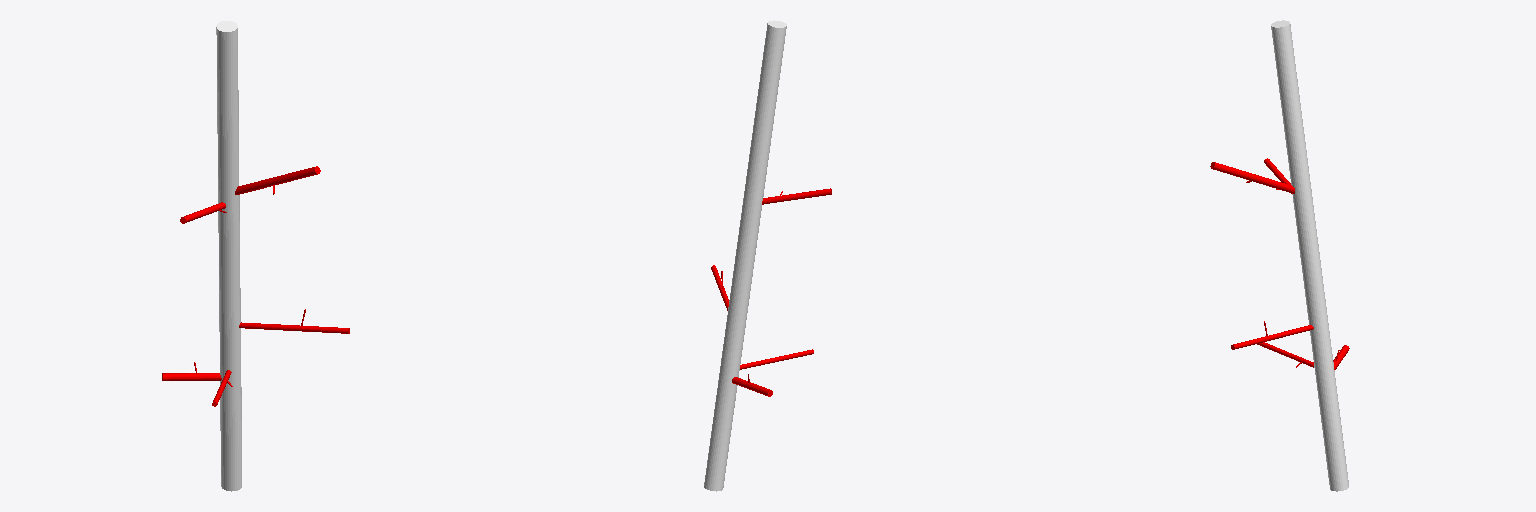
URDF robot description (tree_50.urdf):
<?xml version='1.0' encoding='UTF-8'?>
<robot name="tree_50.urdf">
  <link name="branch_0">
    <inertial>
      <origin xyz="0.0 0.0 0.0" rpy="0.0 -0.0 0.0"/>
      <mass value="0.1"/>
      <inertia ixx="0.001" ixy="0.0" ixz="0.0" iyy="0.001" iyz="0.0" izz="0.001"/>
    </inertial>
    <visual name="branch_0_visual">
      <geometry>
        <cylinder radius="0.19498294490499557" length="9.954055942555794"/>
      </geometry>
      <material name="branch_material"/>
      <origin xyz="-0.38883833730725437 -0.589319804172736 4.926694058162382" rpy="-1.3877787807814457e-17 0.14234001123208226 -2.1540360717377256"/>
    </visual>
    <collision name="branch_0_collision">
      <geometry>
        <cylinder radius="0.19498294490499557" length="9.954055942555794"/>
      </geometry>
      <origin xyz="-0.38883833730725437 -0.589319804172736 4.926694058162382" rpy="-1.3877787807814457e-17 0.14234001123208226 -2.1540360717377256"/>
    </collision>
  </link>
  <link name="branch_1">
    <inertial>
      <origin xyz="0.0 0.0 0.0" rpy="0.0 -0.0 0.0"/>
      <mass value="0.1"/>
      <inertia ixx="0.001" ixy="0.0" ixz="0.0" iyy="0.001" iyz="0.0" izz="0.001"/>
    </inertial>
    <visual name="branch_1_visual">
      <geometry>
        <cylinder radius="0.07507088717942965" length="2.2033952500744283"/>
      </geometry>
      <material name="semantic_material"/>
      <origin xyz="0.0 0.0 0.0" rpy="0.0 -0.0 0.0"/>
    </visual>
    <collision name="branch_1_collision">
      <geometry>
        <cylinder radius="0.07507088717942965" length="2.2033952500744283"/>
      </geometry>
      <origin xyz="0.0 0.0 0.0" rpy="0.0 -0.0 0.0"/>
    </collision>
  </link>
  <link name="branch_2">
    <inertial>
      <origin xyz="0.0 0.0 0.0" rpy="0.0 -0.0 0.0"/>
      <mass value="0.1"/>
      <inertia ixx="0.001" ixy="0.0" ixz="0.0" iyy="0.001" iyz="0.0" izz="0.001"/>
    </inertial>
    <visual name="branch_2_visual">
      <geometry>
        <cylinder radius="0.018907287699865764" length="0.27812069118553856"/>
      </geometry>
      <material name="semantic_material"/>
      <origin xyz="0.0 0.0 0.0" rpy="0.0 -0.0 0.0"/>
    </visual>
    <collision name="branch_2_collision">
      <geometry>
        <cylinder radius="0.018907287699865764" length="0.27812069118553856"/>
      </geometry>
      <origin xyz="0.0 0.0 0.0" rpy="0.0 -0.0 0.0"/>
    </collision>
  </link>
  <link name="branch_3">
    <inertial>
      <origin xyz="0.0 0.0 0.0" rpy="0.0 -0.0 0.0"/>
      <mass value="0.1"/>
      <inertia ixx="0.001" ixy="0.0" ixz="0.0" iyy="0.001" iyz="0.0" izz="0.001"/>
    </inertial>
    <visual name="branch_3_visual">
      <geometry>
        <cylinder radius="0.0718519936489977" length="1.2629489827869675"/>
      </geometry>
      <material name="semantic_material"/>
      <origin xyz="0.0 0.0 0.0" rpy="0.0 -0.0 0.0"/>
    </visual>
    <collision name="branch_3_collision">
      <geometry>
        <cylinder radius="0.0718519936489977" length="1.2629489827869675"/>
      </geometry>
      <origin xyz="0.0 0.0 0.0" rpy="0.0 -0.0 0.0"/>
    </collision>
  </link>
  <link name="branch_4">
    <inertial>
      <origin xyz="0.0 0.0 0.0" rpy="0.0 -0.0 0.0"/>
      <mass value="0.1"/>
      <inertia ixx="0.001" ixy="0.0" ixz="0.0" iyy="0.001" iyz="0.0" izz="0.001"/>
    </inertial>
    <visual name="branch_4_visual">
      <geometry>
        <cylinder radius="0.014930150415725667" length="0.2932566239811885"/>
      </geometry>
      <material name="semantic_material"/>
      <origin xyz="0.0 0.0 0.0" rpy="0.0 -0.0 0.0"/>
    </visual>
    <collision name="branch_4_collision">
      <geometry>
        <cylinder radius="0.014930150415725667" length="0.2932566239811885"/>
      </geometry>
      <origin xyz="0.0 0.0 0.0" rpy="0.0 -0.0 0.0"/>
    </collision>
  </link>
  <link name="branch_5">
    <inertial>
      <origin xyz="0.0 0.0 0.0" rpy="0.0 -0.0 0.0"/>
      <mass value="0.1"/>
      <inertia ixx="0.001" ixy="0.0" ixz="0.0" iyy="0.001" iyz="0.0" izz="0.001"/>
    </inertial>
    <visual name="branch_5_visual">
      <geometry>
        <cylinder radius="0.04906009779174152" length="1.7750023376440998"/>
      </geometry>
      <material name="semantic_material"/>
      <origin xyz="0.0 0.0 0.0" rpy="0.0 -0.0 0.0"/>
    </visual>
    <collision name="branch_5_collision">
      <geometry>
        <cylinder radius="0.04906009779174152" length="1.7750023376440998"/>
      </geometry>
      <origin xyz="0.0 0.0 0.0" rpy="0.0 -0.0 0.0"/>
    </collision>
  </link>
  <link name="branch_6">
    <inertial>
      <origin xyz="0.0 0.0 0.0" rpy="0.0 -0.0 0.0"/>
      <mass value="0.1"/>
      <inertia ixx="0.001" ixy="0.0" ixz="0.0" iyy="0.001" iyz="0.0" izz="0.001"/>
    </inertial>
    <visual name="branch_6_visual">
      <geometry>
        <cylinder radius="0.01619060831474803" length="0.19031940819400733"/>
      </geometry>
      <material name="semantic_material"/>
      <origin xyz="0.0 0.0 0.0" rpy="0.0 -0.0 0.0"/>
    </visual>
    <collision name="branch_6_collision">
      <geometry>
        <cylinder radius="0.01619060831474803" length="0.19031940819400733"/>
      </geometry>
      <origin xyz="0.0 0.0 0.0" rpy="0.0 -0.0 0.0"/>
    </collision>
  </link>
  <link name="branch_7">
    <inertial>
      <origin xyz="0.0 0.0 0.0" rpy="0.0 -0.0 0.0"/>
      <mass value="0.1"/>
      <inertia ixx="0.001" ixy="0.0" ixz="0.0" iyy="0.001" iyz="0.0" izz="0.001"/>
    </inertial>
    <visual name="branch_7_visual">
      <geometry>
        <cylinder radius="0.05317756755384321" length="2.2939971957388257"/>
      </geometry>
      <material name="semantic_material"/>
      <origin xyz="0.0 0.0 0.0" rpy="0.0 -0.0 0.0"/>
    </visual>
    <collision name="branch_7_collision">
      <geometry>
        <cylinder radius="0.05317756755384321" length="2.2939971957388257"/>
      </geometry>
      <origin xyz="0.0 0.0 0.0" rpy="0.0 -0.0 0.0"/>
    </collision>
  </link>
  <link name="branch_8">
    <inertial>
      <origin xyz="0.0 0.0 0.0" rpy="0.0 -0.0 0.0"/>
      <mass value="0.1"/>
      <inertia ixx="0.001" ixy="0.0" ixz="0.0" iyy="0.001" iyz="0.0" izz="0.001"/>
    </inertial>
    <visual name="branch_8_visual">
      <geometry>
        <cylinder radius="0.01460774744188303" length="0.4046274845384857"/>
      </geometry>
      <material name="semantic_material"/>
      <origin xyz="0.0 0.0 0.0" rpy="0.0 -0.0 0.0"/>
    </visual>
    <collision name="branch_8_collision">
      <geometry>
        <cylinder radius="0.01460774744188303" length="0.4046274845384857"/>
      </geometry>
      <origin xyz="0.0 0.0 0.0" rpy="0.0 -0.0 0.0"/>
    </collision>
  </link>
  <link name="branch_9">
    <inertial>
      <origin xyz="0.0 0.0 0.0" rpy="0.0 -0.0 0.0"/>
      <mass value="0.1"/>
      <inertia ixx="0.001" ixy="0.0" ixz="0.0" iyy="0.001" iyz="0.0" izz="0.001"/>
    </inertial>
    <visual name="branch_9_visual">
      <geometry>
        <cylinder radius="0.06243502619842328" length="1.588646191081793"/>
      </geometry>
      <material name="semantic_material"/>
      <origin xyz="0.0 0.0 0.0" rpy="0.0 -0.0 0.0"/>
    </visual>
    <collision name="branch_9_collision">
      <geometry>
        <cylinder radius="0.06243502619842328" length="1.588646191081793"/>
      </geometry>
      <origin xyz="0.0 0.0 0.0" rpy="0.0 -0.0 0.0"/>
    </collision>
  </link>
  <link name="branch_10">
    <inertial>
      <origin xyz="0.0 0.0 0.0" rpy="0.0 -0.0 0.0"/>
      <mass value="0.1"/>
      <inertia ixx="0.001" ixy="0.0" ixz="0.0" iyy="0.001" iyz="0.0" izz="0.001"/>
    </inertial>
    <visual name="branch_10_visual">
      <geometry>
        <cylinder radius="0.014032938138807632" length="0.3147066589505138"/>
      </geometry>
      <material name="semantic_material"/>
      <origin xyz="0.0 0.0 0.0" rpy="0.0 -0.0 0.0"/>
    </visual>
    <collision name="branch_10_collision">
      <geometry>
        <cylinder radius="0.014032938138807632" length="0.3147066589505138"/>
      </geometry>
      <origin xyz="0.0 0.0 0.0" rpy="0.0 -0.0 0.0"/>
    </collision>
  </link>
  <joint name="joint_0_1" type="fixed">
    <parent link="branch_0"/>
    <child link="branch_1"/>
    <axis xyz="1. 0. 0."/>
    <origin xyz="-0.0789266515338714 -1.6429083690264865 6.767457308062068" rpy="0.27314402986165043 1.086475907238957 -0.8278579563652738"/>
  </joint>
  <joint name="joint_0_3" type="fixed">
    <parent link="branch_0"/>
    <child link="branch_3"/>
    <axis xyz="1. 0. 0."/>
    <origin xyz="-0.7796975862247243 -0.07484190152460513 2.3852547707392278" rpy="-1.0520697133953376 1.4114173291646885 1.7531372182116582"/>
  </joint>
  <joint name="joint_0_5" type="fixed">
    <parent link="branch_0"/>
    <child link="branch_5"/>
    <axis xyz="1. 0. 0."/>
    <origin xyz="-0.7602459677179827 -0.985497235679443 2.5622123239673056" rpy="-0.25785498665947154 1.5120571805041307 -2.5161299009781817"/>
  </joint>
  <joint name="joint_0_7" type="fixed">
    <parent link="branch_0"/>
    <child link="branch_7"/>
    <axis xyz="1. 0. 0."/>
    <origin xyz="0.4792562694875869 -1.272217843881959 3.5603843248287537" rpy="0.9624204621887628 1.4026392344336578 0.11681947788194445"/>
  </joint>
  <joint name="joint_0_9" type="fixed">
    <parent link="branch_0"/>
    <child link="branch_9"/>
    <axis xyz="1. 0. 0."/>
    <origin xyz="-1.1692888355112037 -1.0902580716568893 6.194231951650713" rpy="-0.3830270642565418 1.3818566678467687 -3.0441304638103714"/>
  </joint>
  <joint name="joint_1_2" type="fixed">
    <parent link="branch_0"/>
    <child link="branch_2"/>
    <axis xyz="1. 0. 0."/>
    <origin xyz="-0.1363190060790592 -1.7530576124117556 6.702138681200324" rpy="-2.210662244634444 0.6206536554491403 2.2237330868399794"/>
  </joint>
  <joint name="joint_3_4" type="fixed">
    <parent link="branch_0"/>
    <child link="branch_4"/>
    <axis xyz="1. 0. 0."/>
    <origin xyz="-0.7775744791907422 -0.04793290606367869 2.526381451988825" rpy="-0.1859928018371913 -0.15289769757428653 -0.28758859978455437"/>
  </joint>
  <joint name="joint_5_6" type="fixed">
    <parent link="branch_0"/>
    <child link="branch_6"/>
    <axis xyz="1. 0. 0."/>
    <origin xyz="-0.5150894773899906 -0.7973147024935507 2.4906817182544336" rpy="2.1788981536997696 0.27696486747623056 0.5826381096123115"/>
  </joint>
  <joint name="joint_7_8" type="fixed">
    <parent link="branch_0"/>
    <child link="branch_8"/>
    <axis xyz="1. 0. 0."/>
    <origin xyz="0.6495247282851329 -1.46887524826948 3.779115462027436" rpy="-0.006793085576900086 -0.21125940536700968 2.2914087581775"/>
  </joint>
  <joint name="joint_9_10" type="fixed">
    <parent link="branch_0"/>
    <child link="branch_10"/>
    <axis xyz="1. 0. 0."/>
    <origin xyz="-0.8919399244708055 -1.1169654334830221 6.16242264640955" rpy="1.4740844539610916 0.15793604260998476 0.2659197887169546"/>
  </joint>
  <material name="branch_material">
    <color rgba="1. 1. 1. 1."/>
  </material>
  <material name="semantic_material">
    <color rgba="1. 0. 0. 1."/>
  </material>
</robot>

--- Facts derived from the render (not from the file) ---
Views: 3 orthographic renders of the robot side by side, from view 1: azimuth 30°, elevation 25°; view 2: azimuth 150°, elevation 25°; view 3: azimuth 270°, elevation 25°.
Robot: tree_50.urdf — 11 links, 10 joints (10 fixed); root link branch_0; default pose: all joints at 0.
Links seen in each view (by area): view 1: branch_0, branch_1, branch_7; view 2: branch_0; view 3: branch_0, branch_1.
Link boxes in pixels (bbox=[...]): branch_0: bbox=[216, 20, 241, 491]; branch_1: bbox=[235, 166, 320, 194]; branch_7: bbox=[239, 322, 349, 333]; branch_0: bbox=[704, 20, 786, 491]; branch_0: bbox=[1271, 20, 1348, 491]; branch_1: bbox=[1210, 162, 1294, 193].
Size in the robot's own frame: 3.16 by 2.78 by 9.91 metres.
Geometry: primitives only (box / cylinder / sphere), no mesh files.